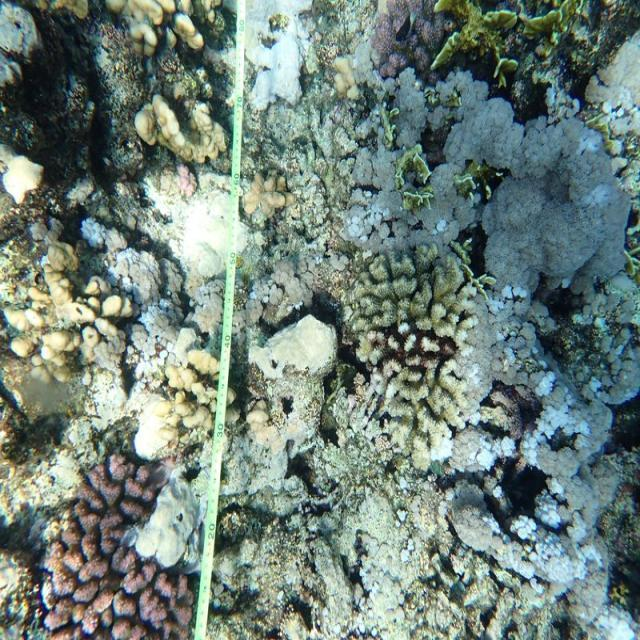Bleached Coral: (91, 257, 185, 450), (146, 165, 252, 287), (222, 0, 314, 99), (256, 303, 340, 390), (129, 487, 218, 559), (59, 197, 122, 263)
Healthy Coral: (372, 64, 637, 297), (45, 452, 191, 633)
